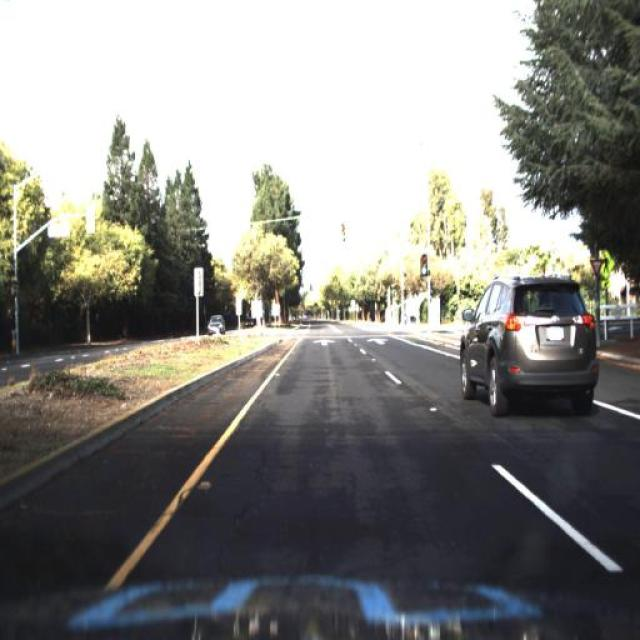car: (459, 273, 598, 422), (205, 308, 229, 338)
trafficLight-GreenLeft: (336, 220, 349, 244), (418, 254, 428, 280), (338, 220, 348, 245)
